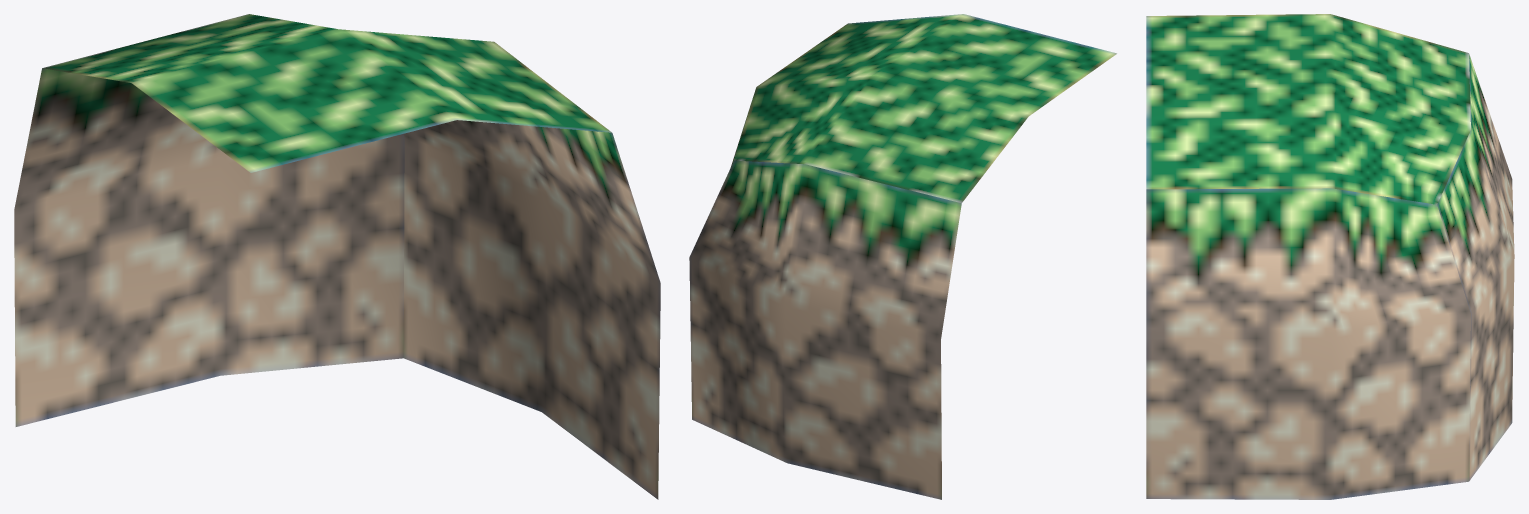
Rendered from grassSTile_groundCorner_upperRight.fbx.
The picture shows the model from 3 angles, left to right: view 1: azimuth 30°, elevation 25°; view 2: azimuth 150°, elevation 25°; view 3: azimuth 270°, elevation 25°; orthographic projection. The views are drawn at different scales.
Visible parts, largest first — view 1: grassSTile_groundCorner_upperRight; view 2: grassSTile_groundCorner_upperRight; view 3: grassSTile_groundCorner_upperRight.
Boxes of the visible parts, bbox=[...] form: grassSTile_groundCorner_upperRight: bbox=[14, 14, 660, 499]; grassSTile_groundCorner_upperRight: bbox=[689, 14, 1116, 499]; grassSTile_groundCorner_upperRight: bbox=[1146, 14, 1514, 499].
Bounding box in the file's own units: 1.01 × 1.01 × 1.01.
